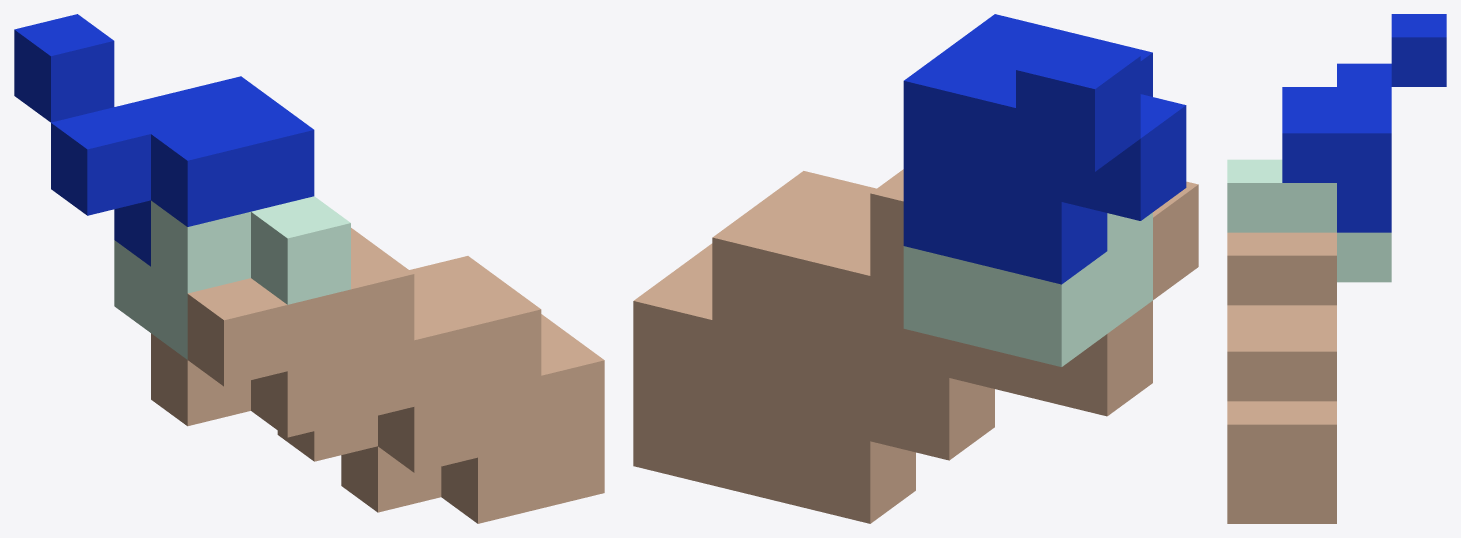
The model's file is Frame-1.obj.
The picture shows the model from 3 angles, left to right: view 1: azimuth 30°, elevation 25°; view 2: azimuth 150°, elevation 25°; view 3: azimuth 270°, elevation 25°; orthographic projection. The views are drawn at different scales.
Size of the model in its own units: 0.7 by 0.7 by 0.4.
1 material, 1 textured.
